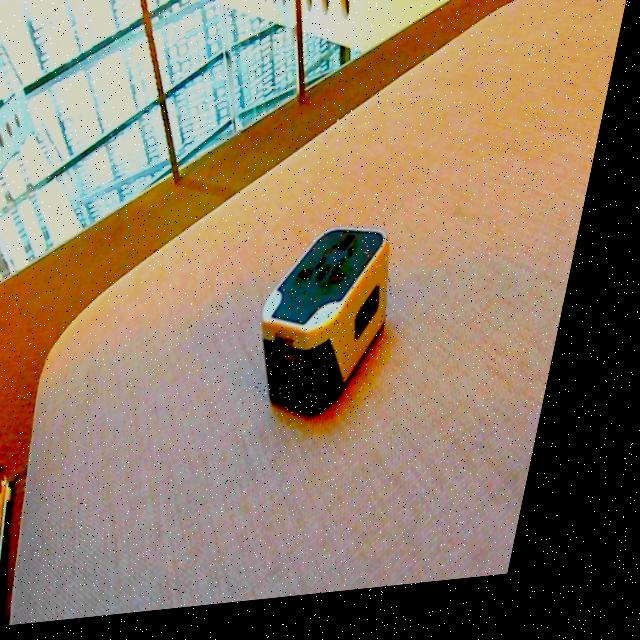adapter: (257, 227, 418, 432)
